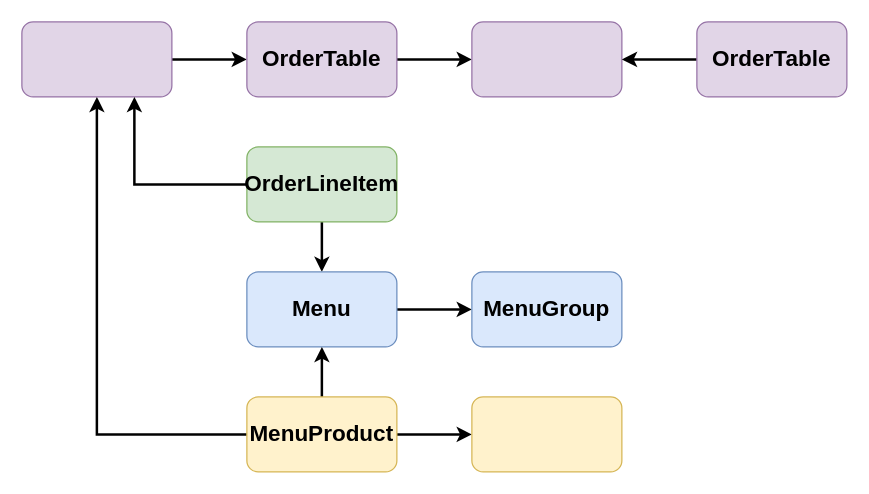
The diagram is 869 pixels wide and 494 high, and some of its shapes have lost their labels. Here are the shapes that lost their labels. From the top down, the box of each, then its label:
(21, 21, 172, 97): Order
(471, 21, 622, 97): TableGroup
(471, 396, 622, 472): Product
